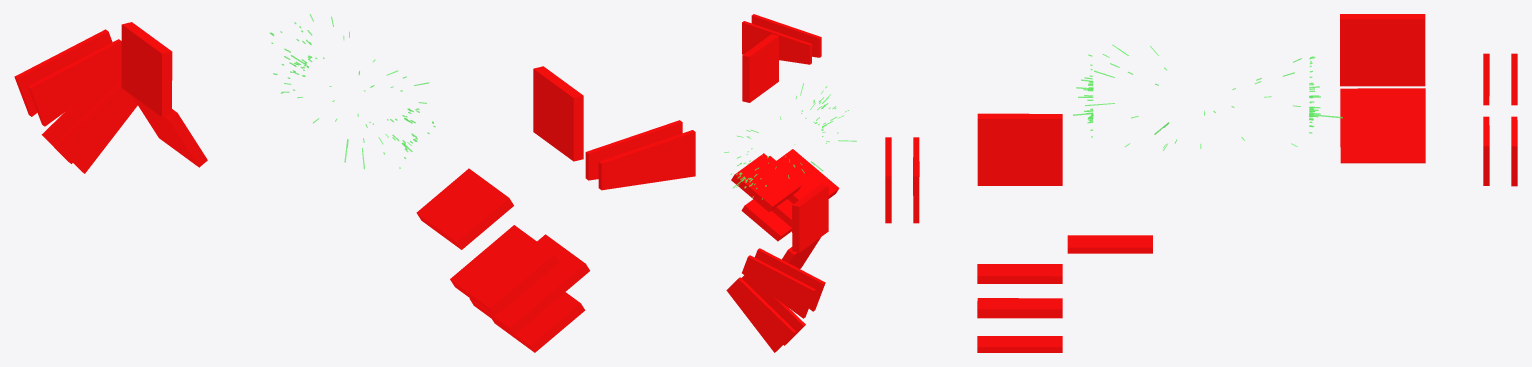
The picture shows the model from 3 angles, left to right: view 1: azimuth 30°, elevation 25°; view 2: azimuth 150°, elevation 25°; view 3: azimuth 270°, elevation 25°; orthographic projection. The views are drawn at different scales.
Visible parts, largest first — view 1: MuonChambers_V1, EERecHits_V2; view 2: MuonChambers_V1, EERecHits_V2, EBRecHits_V2; view 3: MuonChambers_V1, EERecHits_V2.
Boxes of the visible parts, bbox=[...] form: MuonChambers_V1: bbox=[14, 22, 695, 352]; EERecHits_V2: bbox=[269, 22, 435, 168]; MuonChambers_V1: bbox=[726, 14, 839, 352]; EERecHits_V2: bbox=[730, 86, 848, 199]; EBRecHits_V2: bbox=[724, 83, 856, 187]; MuonChambers_V1: bbox=[885, 14, 1517, 352]; EERecHits_V2: bbox=[1073, 54, 1342, 137].
Size of what is drawn, in the model's own units: 13.76 by 8.43 by 18.63.
